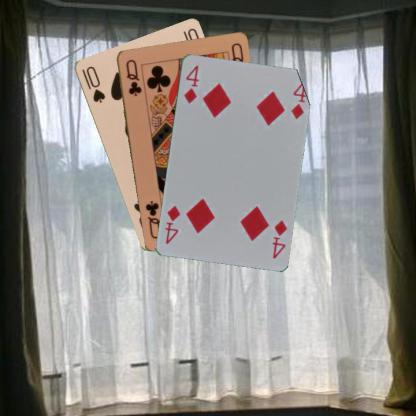10s: (79, 63, 106, 104)
4d: (269, 217, 289, 260), (181, 61, 200, 106)
Qc: (123, 57, 143, 97)
